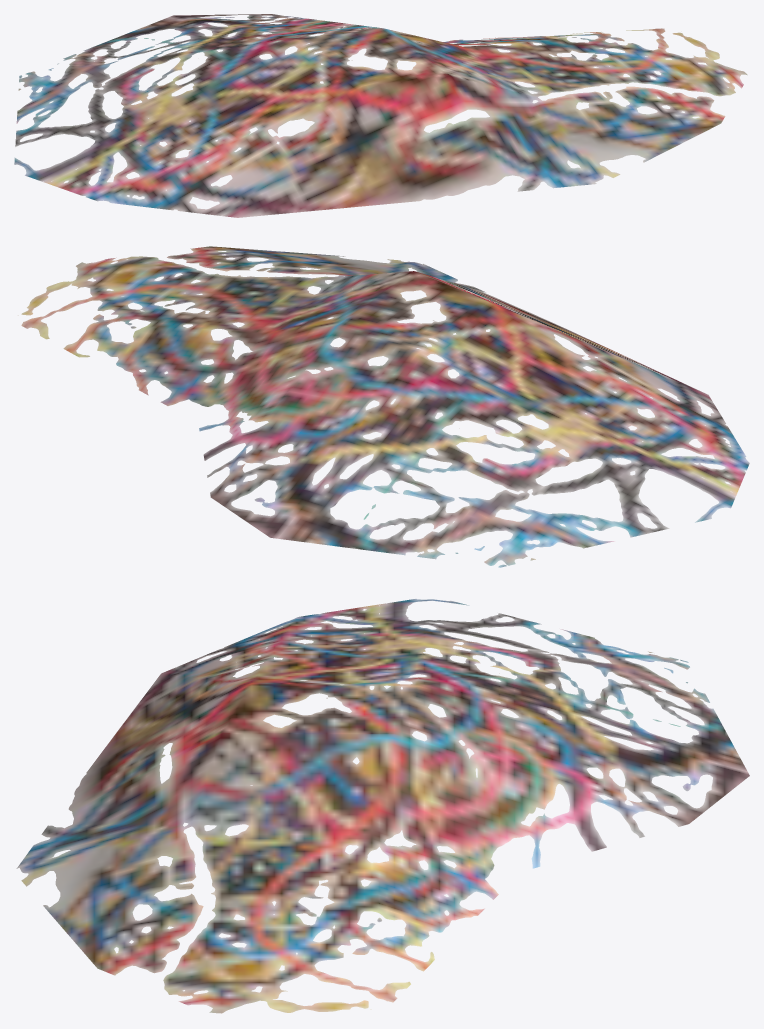
File: tangled_wires.FBX
3 views of the same model, one above another, from view 1: azimuth 30°, elevation 25°; view 2: azimuth 150°, elevation 25°; view 3: azimuth 270°, elevation 25° (orthographic). The views are drawn at different scales.
Parts seen in each view (by area): view 1: tangled_wires; view 2: tangled_wires; view 3: tangled_wires.
Part boxes in pixels (x1,y1,x2,y2): tangled_wires: (14, 14, 747, 217); tangled_wires: (18, 246, 749, 567); tangled_wires: (16, 599, 749, 1013).
Size of the model in its own units: 40.17 by 3.99 by 29.84.
